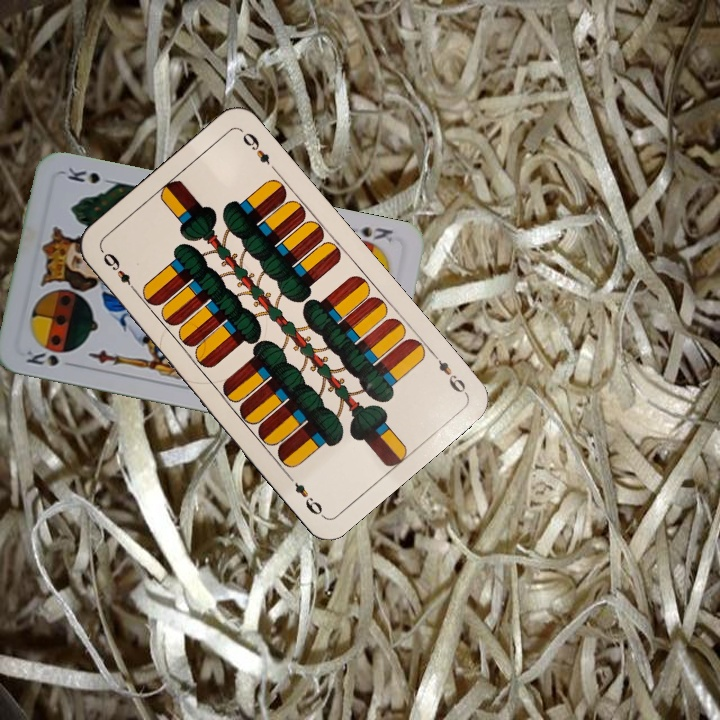E9: (427, 347, 470, 397), (97, 247, 140, 296)
SK: (22, 344, 79, 370), (356, 222, 396, 245)
